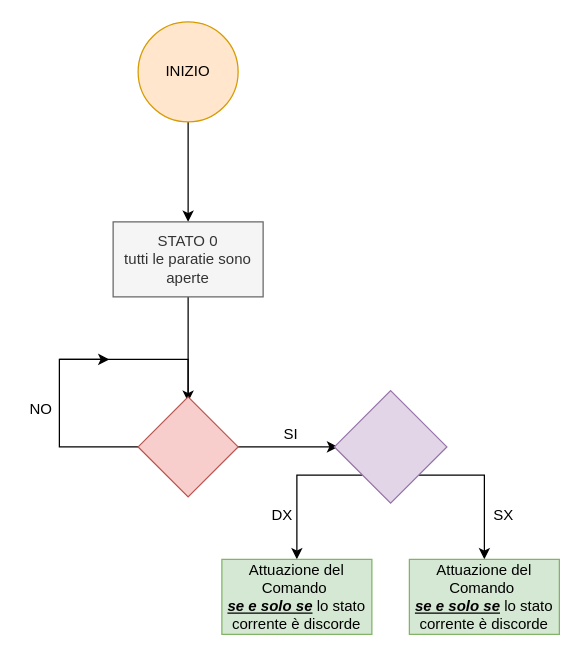
Some shapes in this 581 by 656 pixel diagram are drawn without their labels. Each missing label, with the centre of its shape:
"C'è una tupla?" belongs at [187,446].
"Qual'è il Sensore" belongs at [390,446].
